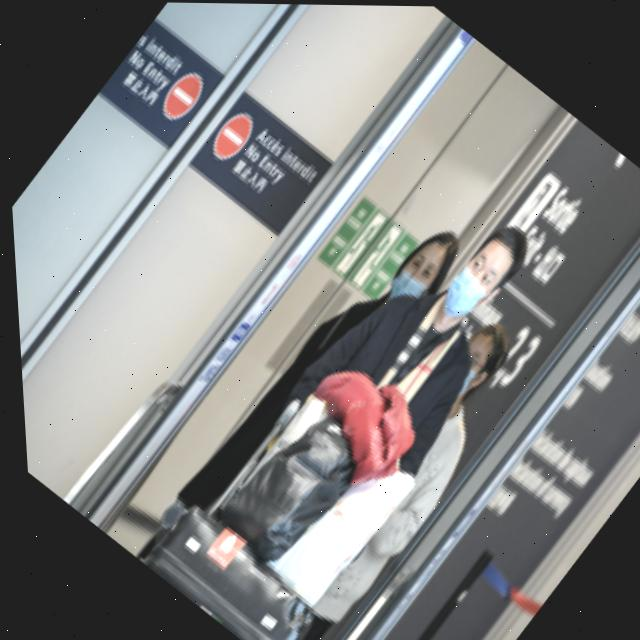Mask: (425, 259, 499, 333), (374, 261, 428, 315)
